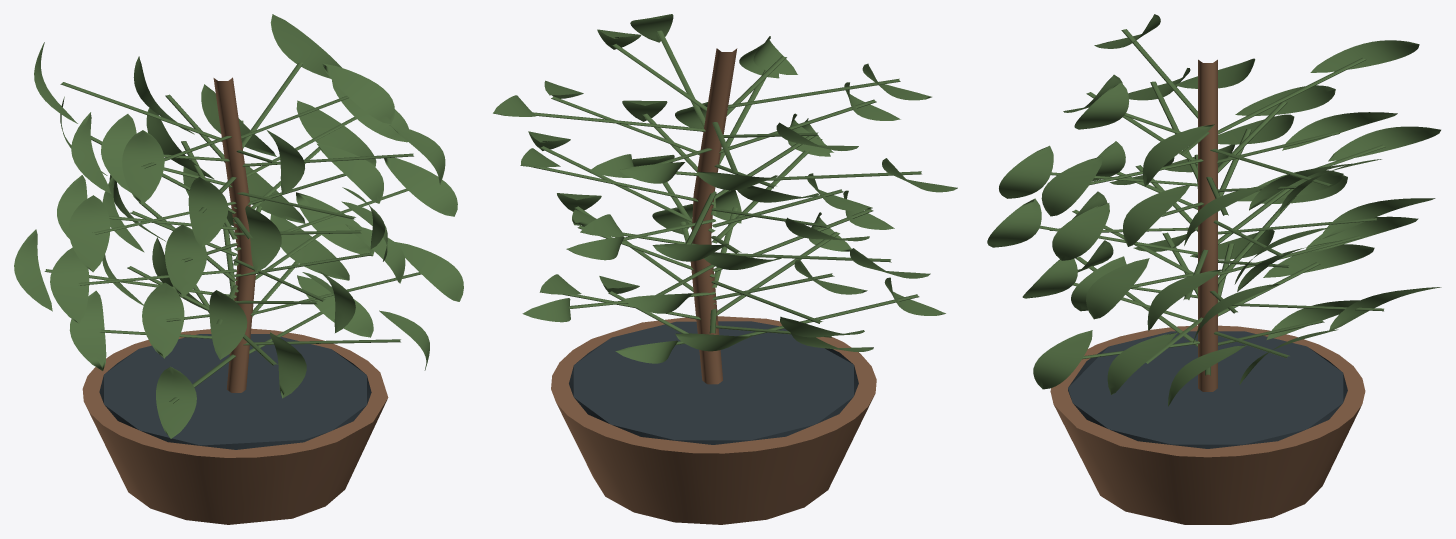
Rendered from plant-14-2.lod.glb.
3 renders of one model, left to right at view 1: azimuth 30°, elevation 25°; view 2: azimuth 150°, elevation 25°; view 3: azimuth 270°, elevation 25°, orthographic. The views are drawn at different scales.
Parts seen in each view (by area): view 1: part (×40); view 2: part (×33); view 3: part (×36).
Part boxes in pixels (left/top/right/bottom): part (×40): left=14, top=14, right=463, bottom=524; part (×33): left=493, top=14, right=957, bottom=524; part (×36): left=987, top=29, right=1441, bottom=524.
Size of the model in its own units: 1 by 1 by 1.
